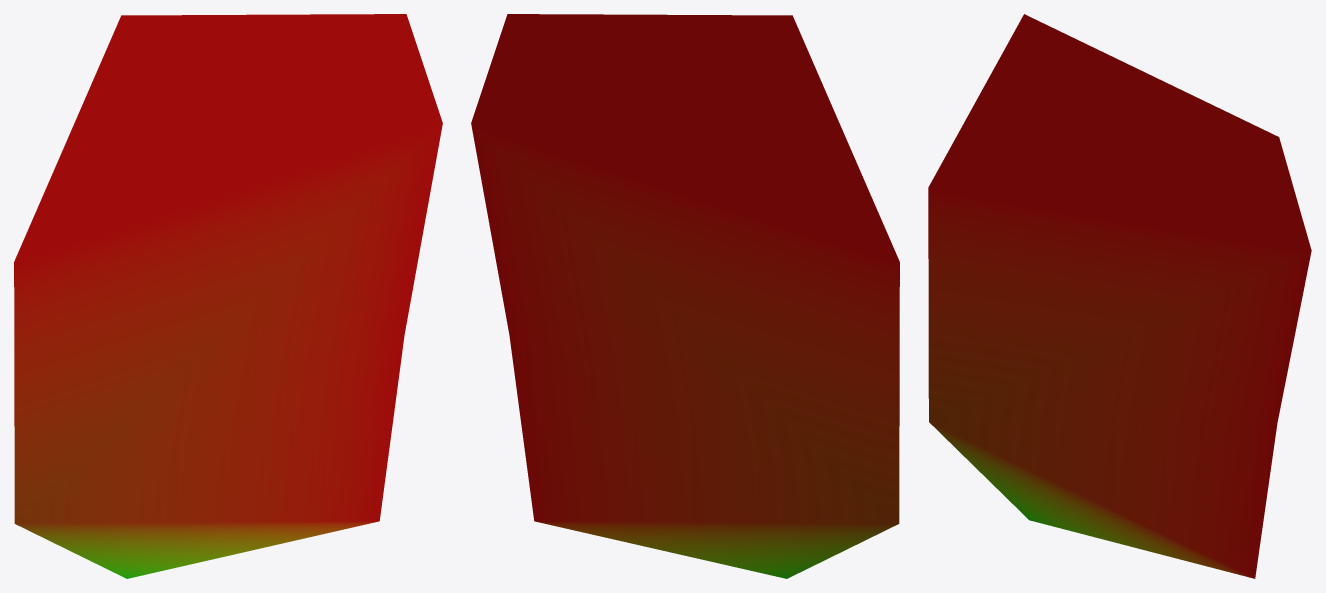
The model's file is White Everlasting_LOD5_Var1_ucvobbbia.fbx.
3 views of the same model, side by side, from view 1: azimuth 30°, elevation 25°; view 2: azimuth 150°, elevation 25°; view 3: azimuth 330°, elevation 25° (orthographic). The views are drawn at different scales.
Parts seen in each view (by area): view 1: _32f5_Var1_LOD5; view 2: _32f5_Var1_LOD5; view 3: _32f5_Var1_LOD5.
Part boxes in pixels (x1,y1,x2,y2): _32f5_Var1_LOD5: [14, 14, 442, 578]; _32f5_Var1_LOD5: [471, 14, 899, 578]; _32f5_Var1_LOD5: [928, 14, 1311, 578].
Bounding box in the file's own units: 56.08 × 71.11 × 9.89e-06.
